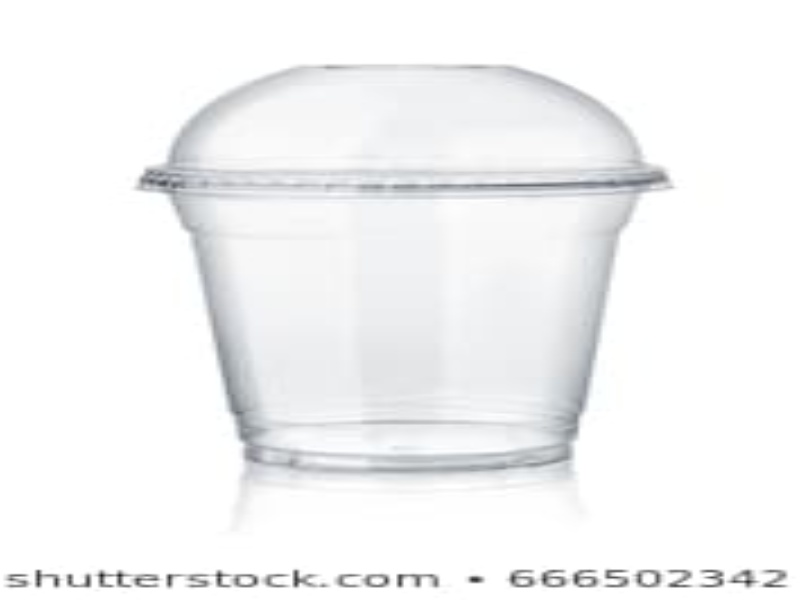plastic-cup: (130, 53, 682, 490)
